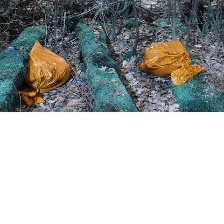plastic_bag: (13, 37, 77, 105), (136, 34, 212, 91)
